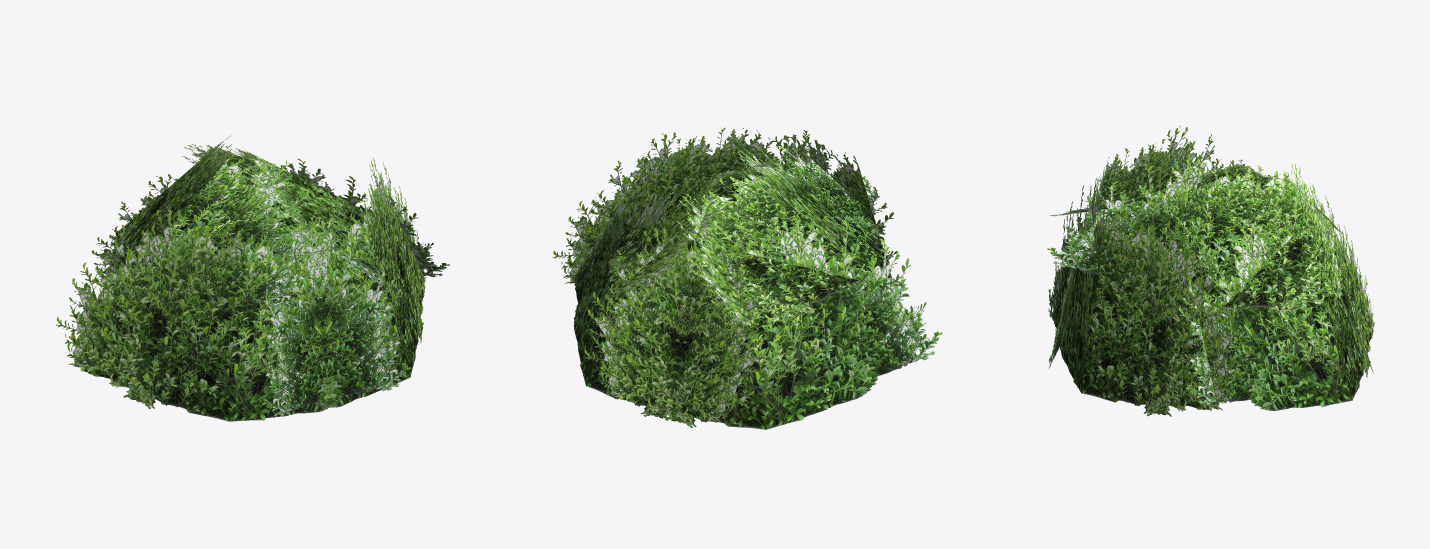
File: Bush 2.fbx
3 renders of one model, left to right at view 1: azimuth 30°, elevation 25°; view 2: azimuth 150°, elevation 25°; view 3: azimuth 270°, elevation 25°, orthographic. The views are drawn at different scales.
Visible parts, largest first — view 1: Plane; view 2: Plane; view 3: Plane.
Part boxes in pixels (box(x1,y1,x2,y2)): Plane: box(56, 134, 449, 421); Plane: box(552, 127, 942, 429); Plane: box(1047, 125, 1374, 416).
Size of the model in its own units: 324 by 250 by 253.
